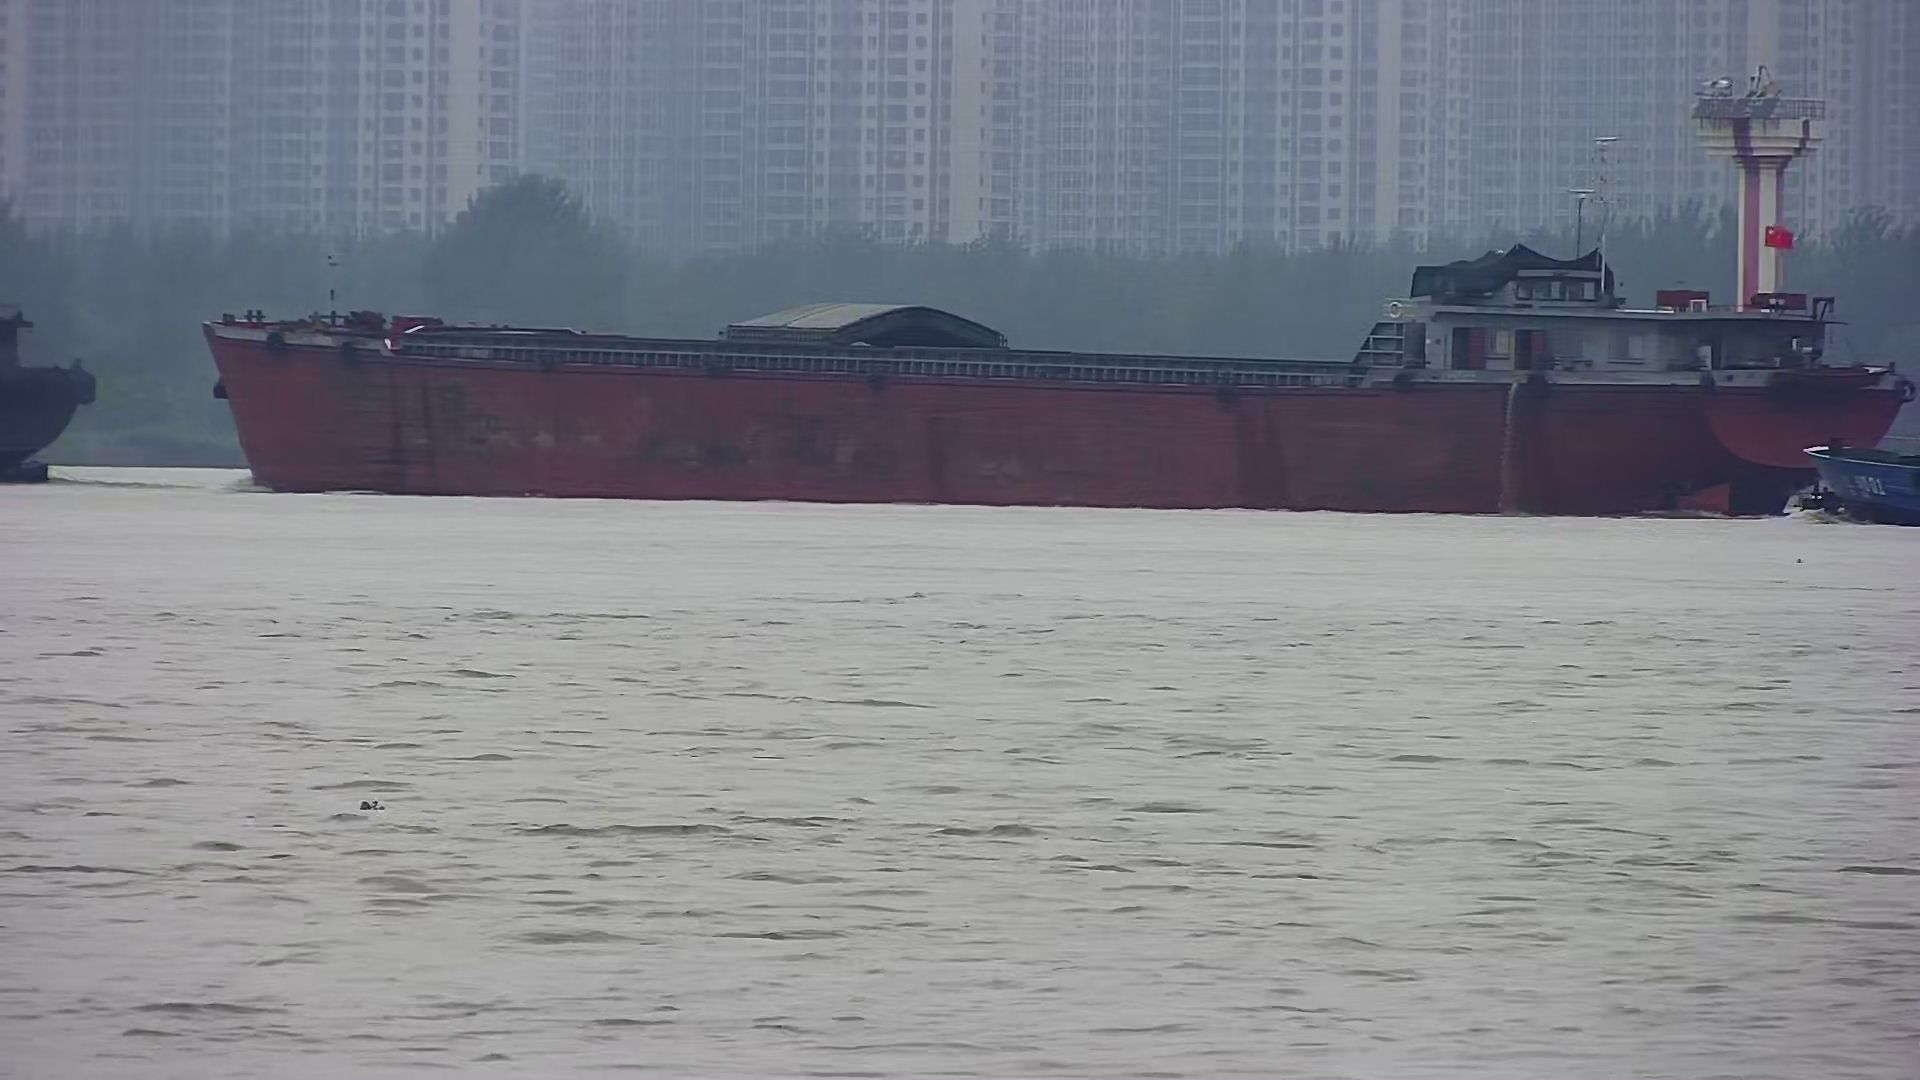platform: (1696, 73, 1815, 521)
ship: (195, 182, 1904, 526), (1, 294, 105, 485), (1799, 436, 1920, 527)
